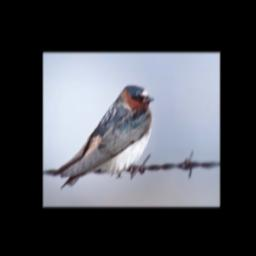Swallow: (52, 85, 153, 191)
